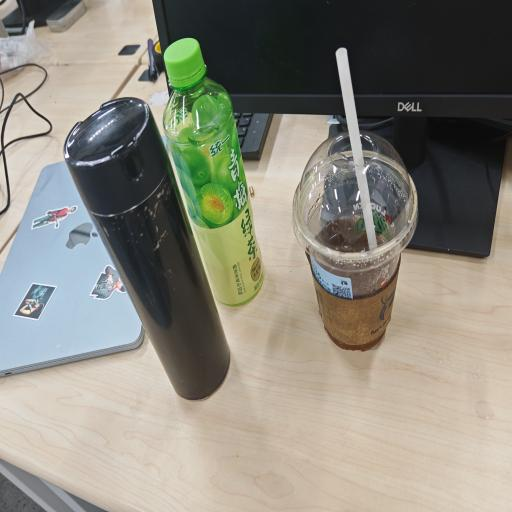laptop: (0, 162, 144, 376)
